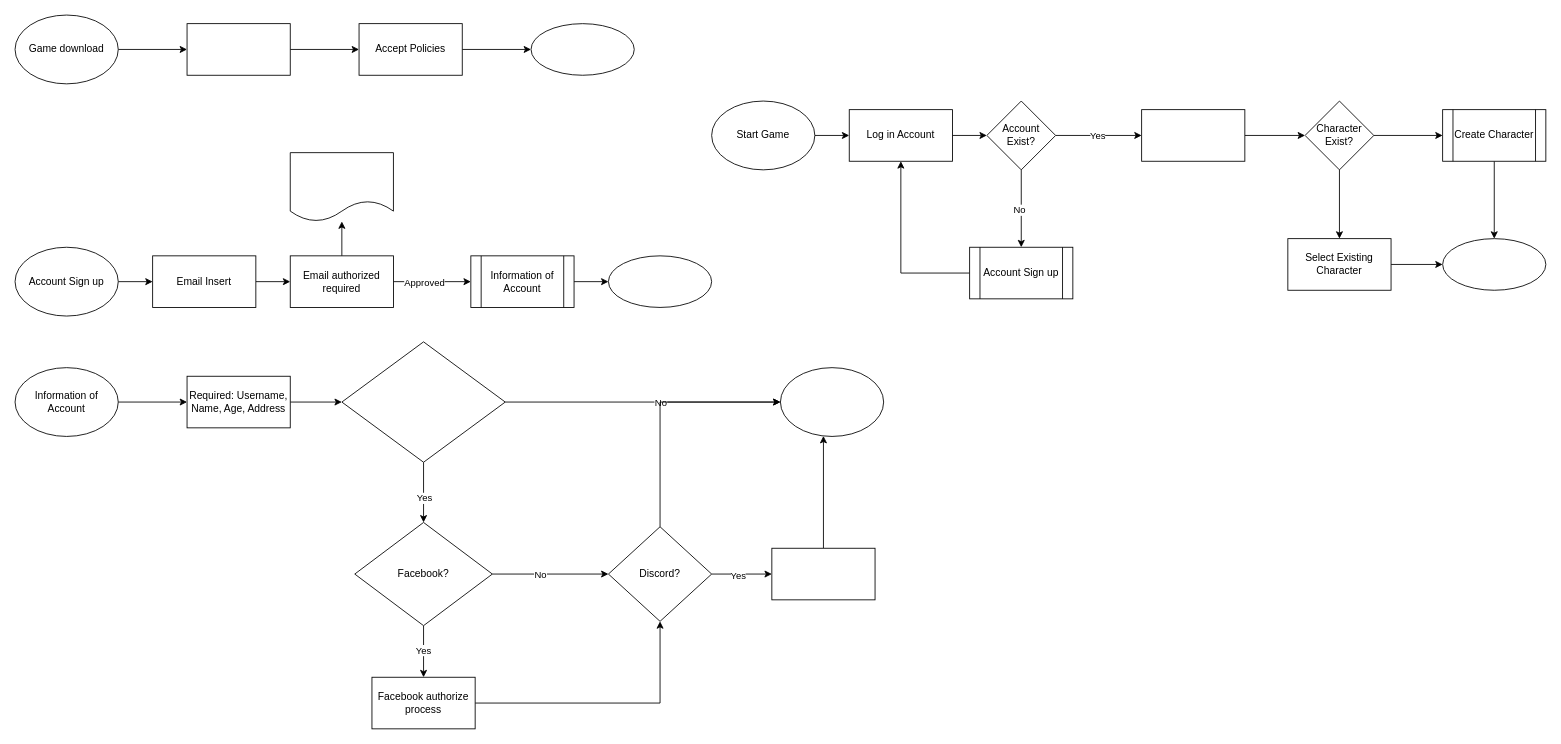
Some shapes in this 1561 by 744 pixel diagram are drawn without their labels. The box of each missing label's shape, as (x1, y1, x2, y2) in pixels:
Acc. Information process finished: (780, 367, 884, 436)
Account created: (608, 255, 712, 307)
Choose Character: (1141, 109, 1245, 161)
Discord authorize process: (771, 547, 875, 600)
Game downloaded: (530, 23, 634, 75)
Game starts: (1442, 238, 1546, 290)
Select type of platform: (186, 23, 290, 75)
Verification Email: (289, 152, 393, 221)
Would you like to link your acc. to other platforms?: (341, 341, 505, 462)
